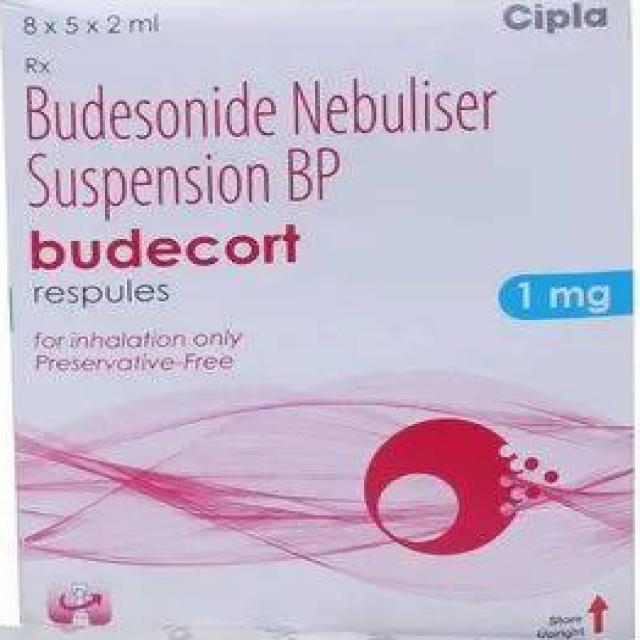drug-name: (28, 215, 302, 278)
